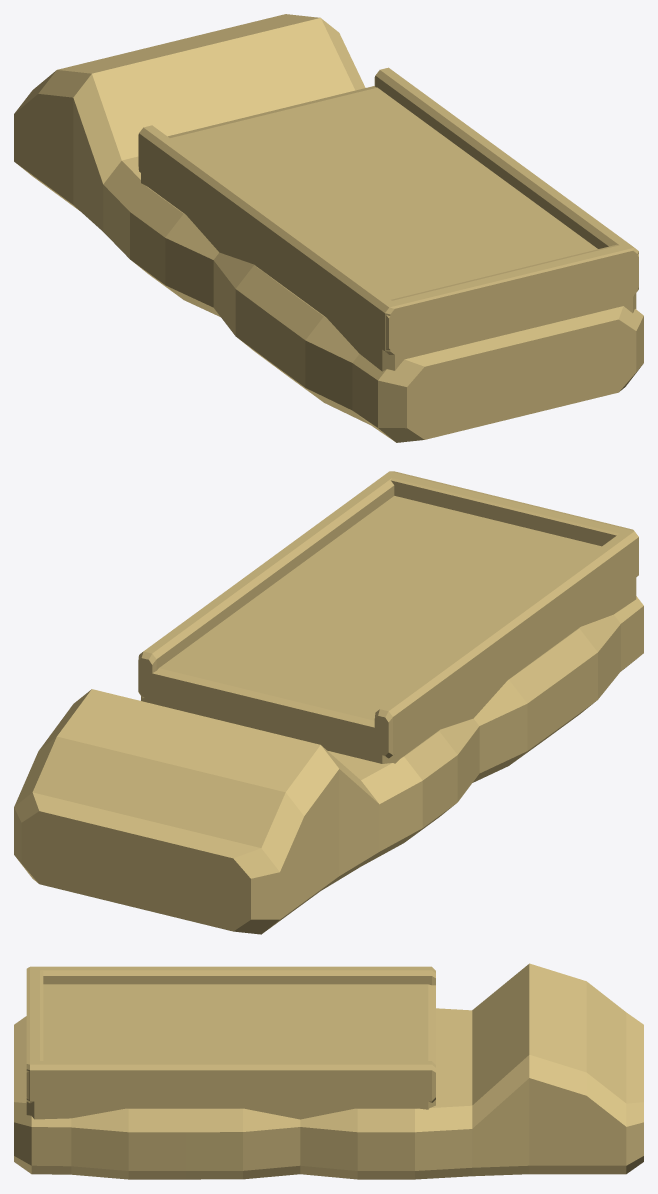
Rendered from tallow_transport_a.glb.
The picture shows the model from 3 angles, top to bottom: view 1: azimuth 30°, elevation 25°; view 2: azimuth 150°, elevation 25°; view 3: azimuth 270°, elevation 25°; orthographic projection. The views are drawn at different scales.
Visible parts, largest first — view 1: tallow_transport_a; view 2: tallow_transport_a; view 3: tallow_transport_a.
Part boxes in pixels (left/top/right/bottom): tallow_transport_a: left=14, top=14, right=643, bottom=442; tallow_transport_a: left=14, top=471, right=643, bottom=934; tallow_transport_a: left=14, top=963, right=643, bottom=1179.
Size of the model in its own units: 3.9 by 1.86 by 8.9.
